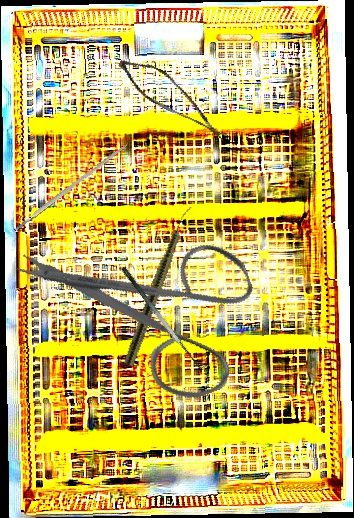Handpiece: (122, 200, 195, 369)
Iris Scissors: (11, 184, 282, 442)
Micro Scissor: (107, 52, 242, 143)
Scalpel Handle: (13, 142, 129, 232)
Spatula Surgical: (119, 259, 211, 376)
